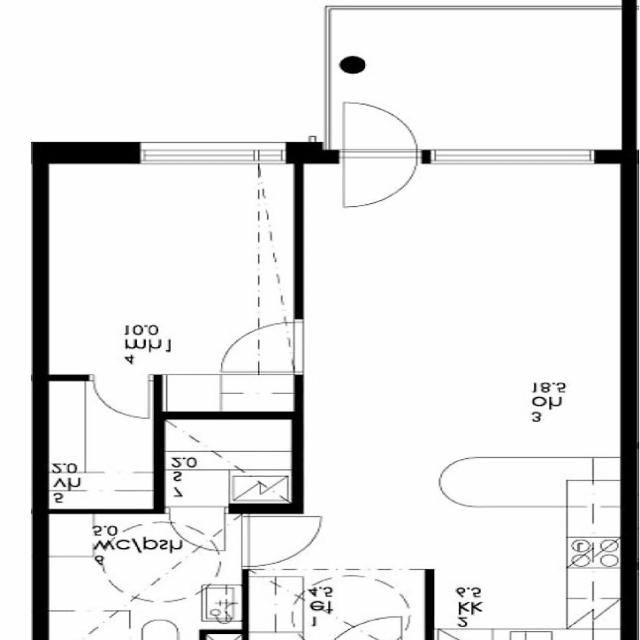door: (344, 150, 416, 212), (344, 101, 416, 163), (241, 517, 323, 567), (223, 323, 303, 372), (169, 507, 224, 552), (319, 610, 400, 640), (94, 375, 148, 417)
